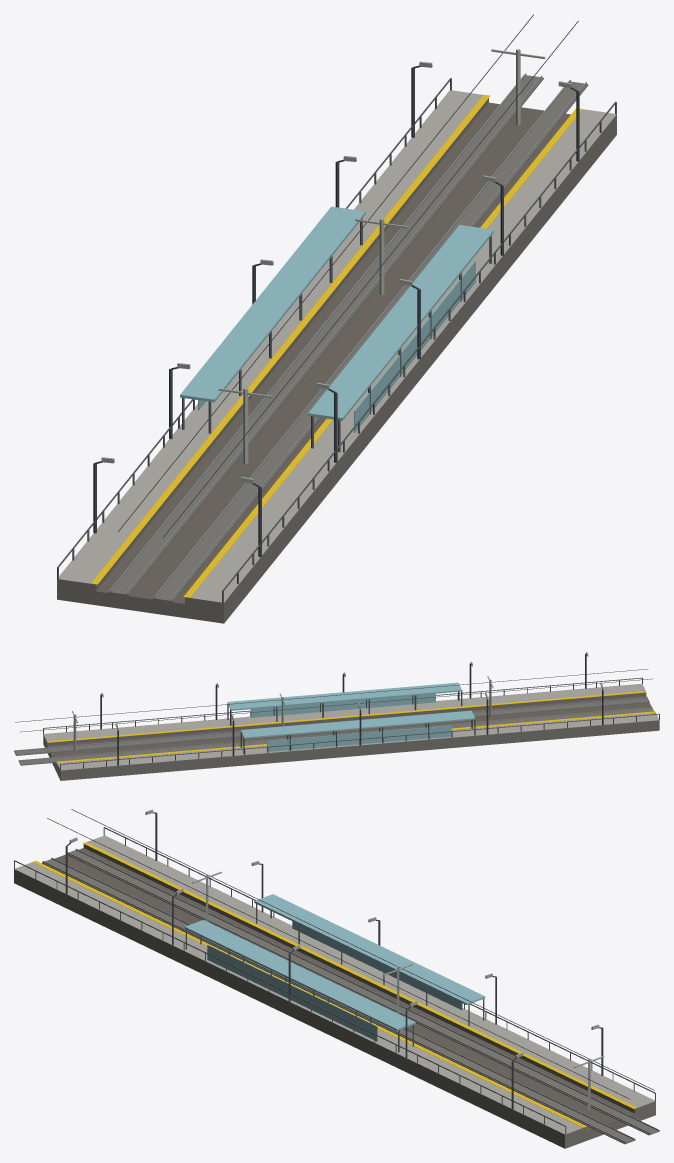
The model's file is br_p152_muttart_stop.gltf.
3 renders of one model, top to bottom at view 1: azimuth 30°, elevation 25°; view 2: azimuth 150°, elevation 25°; view 3: azimuth 270°, elevation 25°, orthographic. The views are drawn at different scales.
Parts seen in each view (by area): view 1: br_p152_muttart_stop; view 2: br_p152_muttart_stop; view 3: br_p152_muttart_stop.
Boxes of the visible parts, x1,y1,x2,y2 form: br_p152_muttart_stop: [57, 14, 616, 623]; br_p152_muttart_stop: [14, 652, 659, 780]; br_p152_muttart_stop: [14, 809, 659, 1148].
Bounding box in the file's own units: 89.43 × 9.14 × 80.21.
